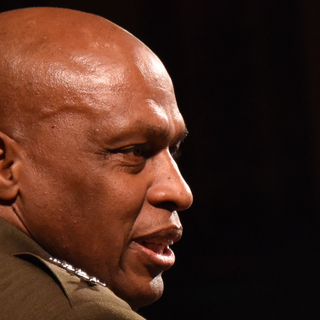eye: (100, 140, 157, 172)
